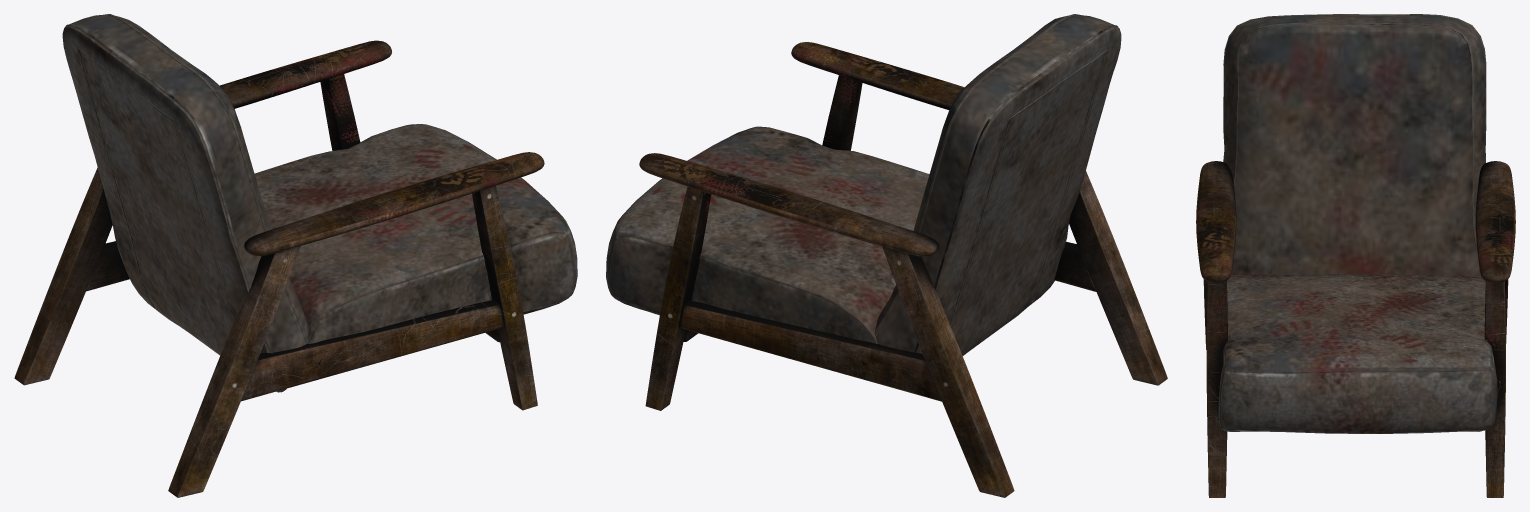
Rendered from bchair.gltf.
The picture shows the model from 3 angles, left to right: view 1: azimuth 30°, elevation 25°; view 2: azimuth 150°, elevation 25°; view 3: azimuth 270°, elevation 25°; orthographic projection. The views are drawn at different scales.
Visible parts, largest first — view 1: back_cushion, seat_cusion, back_right__leg, right_support, right_arm, back_right__leg.001, front_right_leg, right_arm.001, front_right_leg.001, right_support.001; view 2: back_cushion, seat_cusion, back_right__leg.001, right_support.001, right_arm.001, back_right__leg, front_right_leg.001, right_arm, front_right_leg, right_support; view 3: back_cushion, seat_cusion, right_arm.001, right_arm, front_right_leg, front_right_leg.001.
Part boxes in pixels (left/top/right/bottom): back_cushion: left=62, top=14, right=308, bottom=392; seat_cusion: left=254, top=124, right=577, bottom=343; back_right__leg: left=168, top=246, right=300, bottom=497; right_support: left=241, top=300, right=504, bottom=401; right_arm: left=244, top=152, right=544, bottom=256; back_right__leg.001: left=14, top=167, right=112, bottom=385; front_right_leg: left=472, top=186, right=537, bottom=410; right_arm.001: left=220, top=40, right=391, bottom=108; front_right_leg.001: left=320, top=74, right=360, bottom=150; right_support.001: left=86, top=241, right=129, bottom=291; back_cushion: left=874, top=14, right=1121, bottom=355; seat_cusion: left=606, top=126, right=929, bottom=343; back_right__leg.001: left=882, top=246, right=1014, bottom=497; right_support.001: left=679, top=300, right=941, bottom=401; right_arm.001: left=639, top=153, right=938, bottom=256; back_right__leg: left=1069, top=171, right=1167, bottom=385; front_right_leg.001: left=645, top=187, right=711, bottom=410; right_arm: left=791, top=42, right=964, bottom=109; front_right_leg: left=822, top=75, right=862, bottom=150; right_support: left=1054, top=241, right=1096, bottom=291; back_cushion: left=1223, top=14, right=1486, bottom=277; seat_cusion: left=1218, top=274, right=1497, bottom=433; right_arm.001: left=1475, top=161, right=1515, bottom=282; right_arm: left=1196, top=161, right=1236, bottom=282; front_right_leg: left=1206, top=280, right=1227, bottom=497; front_right_leg.001: left=1484, top=281, right=1505, bottom=497.
Bounding box in the file's own units: 133 × 112 × 94.27.
2 materials, 2 textured.
